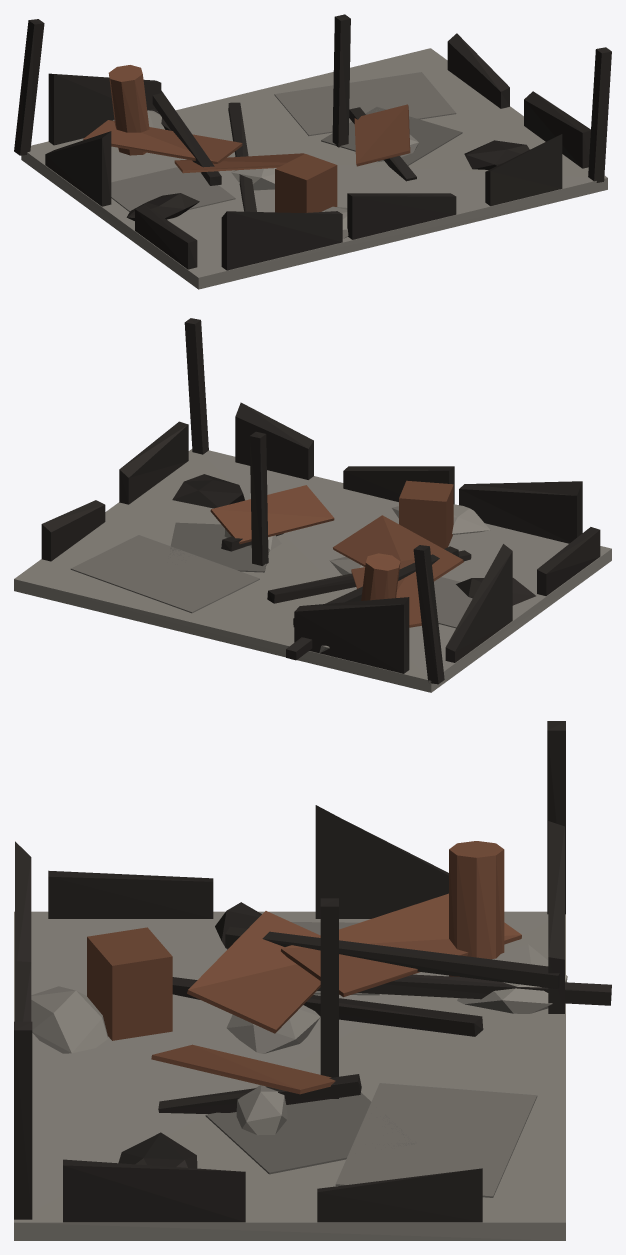
The model's file is ruin_8x6.glb.
The picture shows the model from 3 angles, top to bottom: view 1: azimuth 30°, elevation 25°; view 2: azimuth 150°, elevation 25°; view 3: azimuth 270°, elevation 25°; orthographic projection. The views are drawn at different scales.
Visible parts, largest first — view 1: ruin; view 2: ruin; view 3: ruin.
Part boxes in pixels (x1,y1,x2,y2): ruin: (14, 14, 611, 289); ruin: (14, 318, 611, 692); ruin: (14, 721, 611, 1240).
Bounding box in the file's own units: 8.22 × 2.59 × 6.5.
